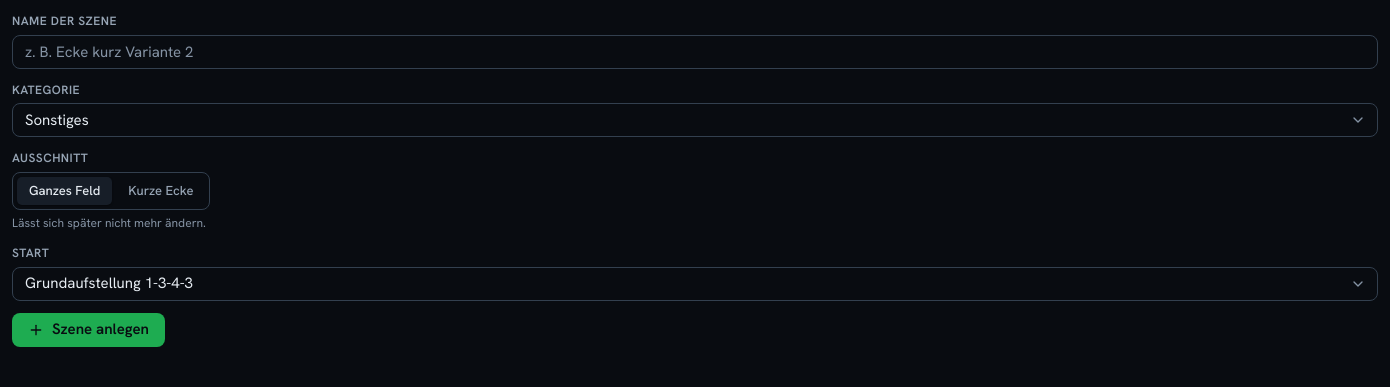
Test: CreateSceneForm › says the scene starts from a copy once a formation is picked
Check: the text "Die Szene startet mit einer Kopie der Formation." is not shown
Step 1. Select "Tiefe Abwehr (Abwehr)" in the dropdown labelled "Start" → (695, 284), box [12,267,1378,301]
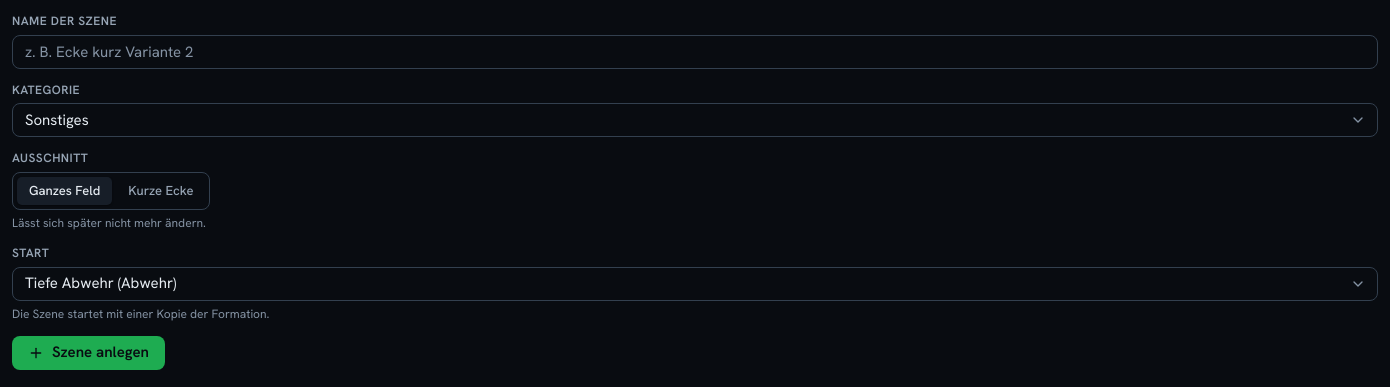
Check: the text "Die Szene startet mit einer Kopie der Formation." is shown, box [12,306,270,322]
